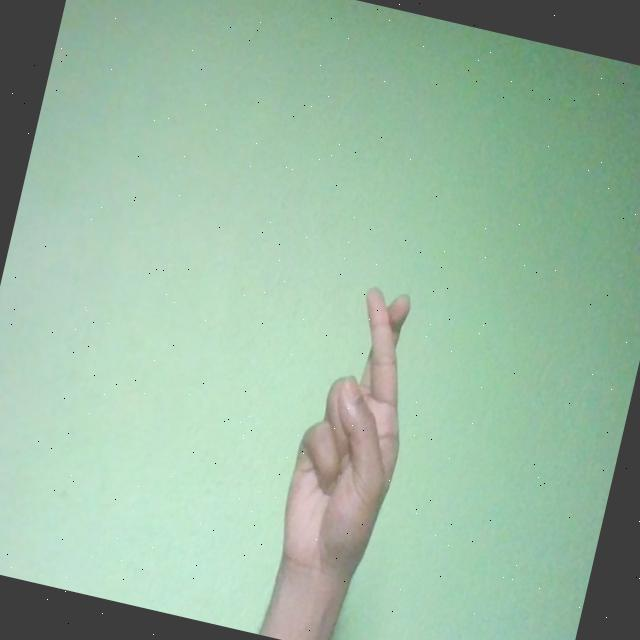Ok: (268, 277, 434, 598)
